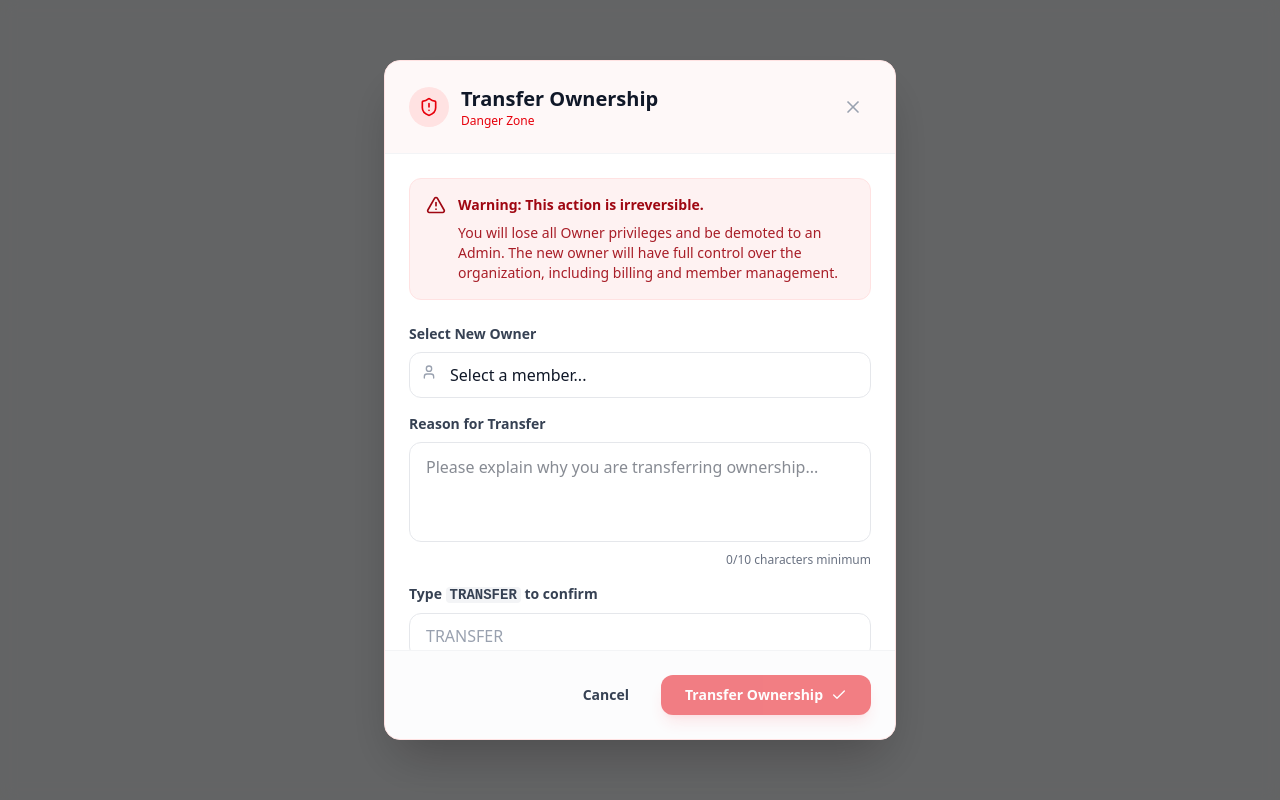
Test: TransferOwnershipModal › validates form inputs
Expected: the button "Transfer Ownership" is disabled, [661,675,871,715]
Note: Select member
Select "Alice (alice@example.com) - admin" in the dropdown at (640, 375), box [409,352,871,398]
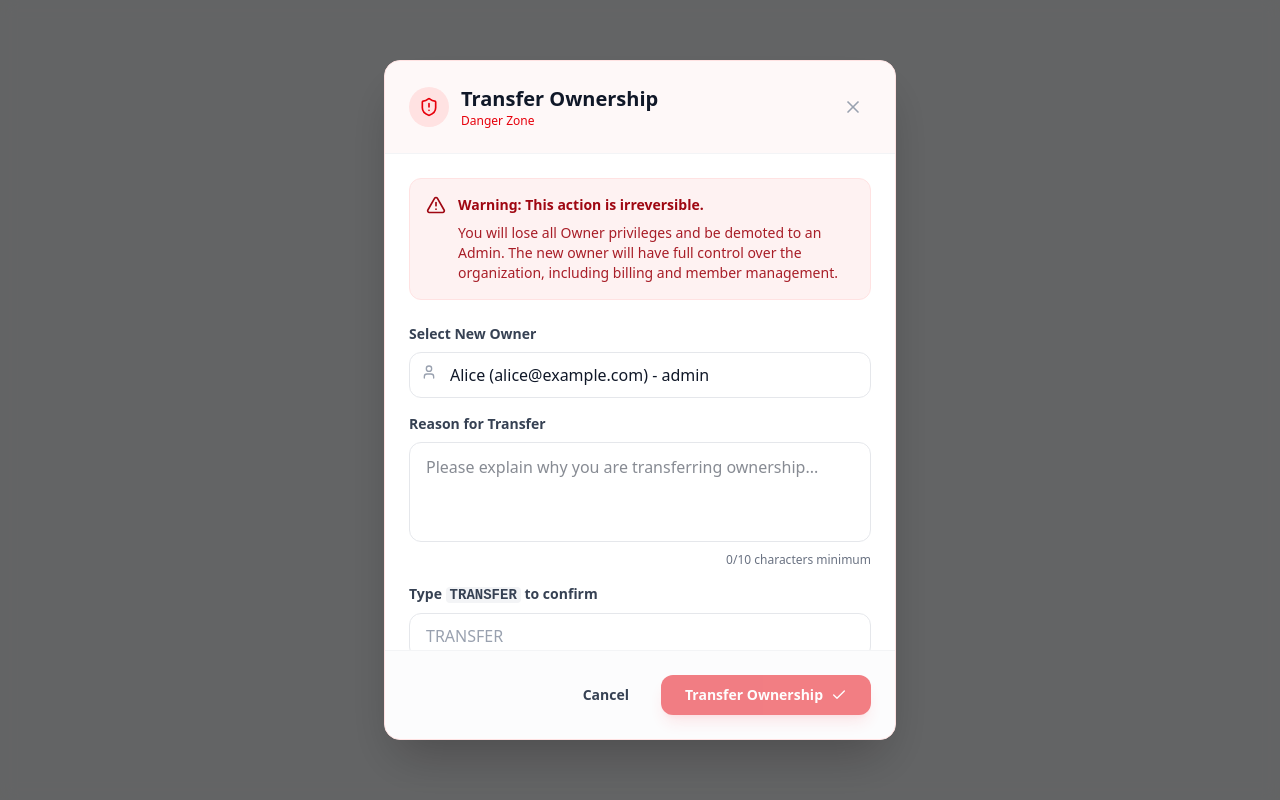
Note: Type short reason
Type "Short" into the text box with placeholder "Please explain why you are transferring ownership..." at (640, 492), box [409,442,871,542]
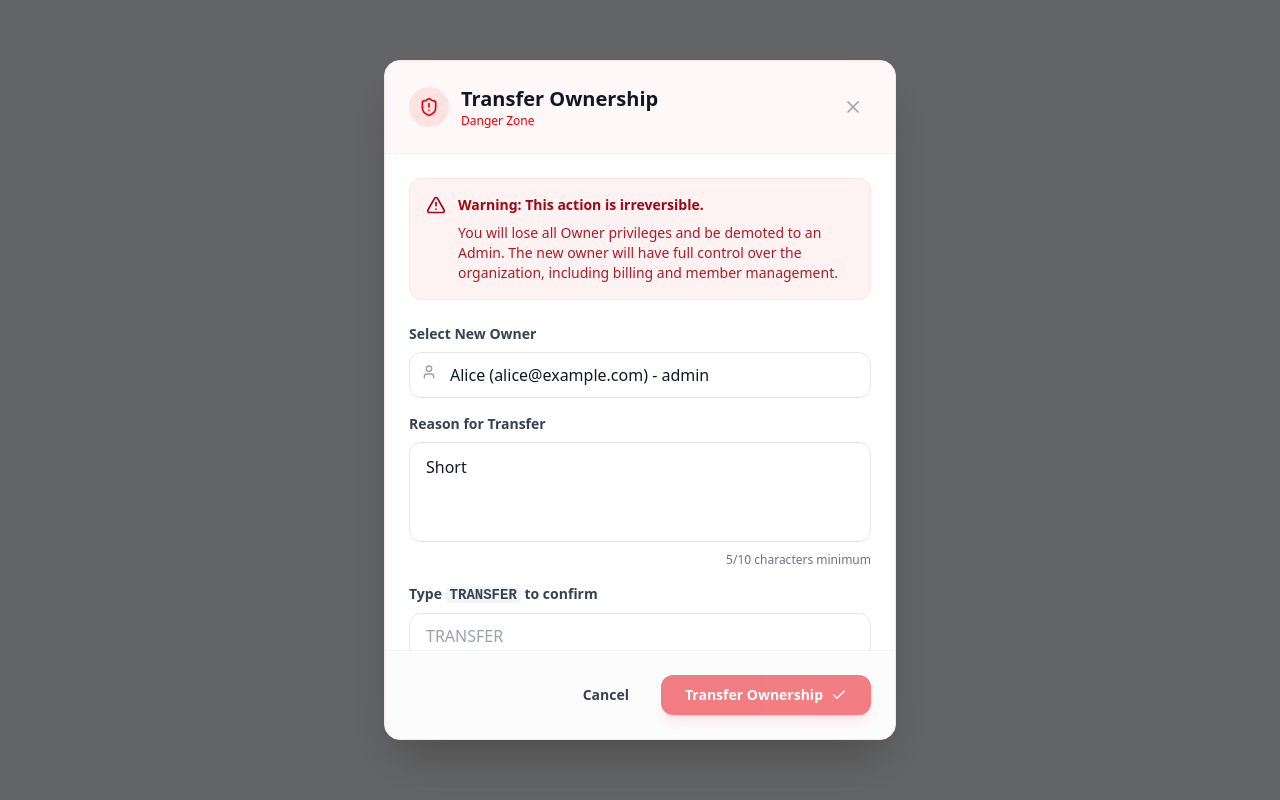
Expected: the button "Transfer Ownership" is disabled, [661,675,871,715]
Note: Type valid reason
Replace the text in the text box with placeholder "Please explain why you are transferring ownership..." with "Valid reason for transfer" at (640, 492), box [409,442,871,542]
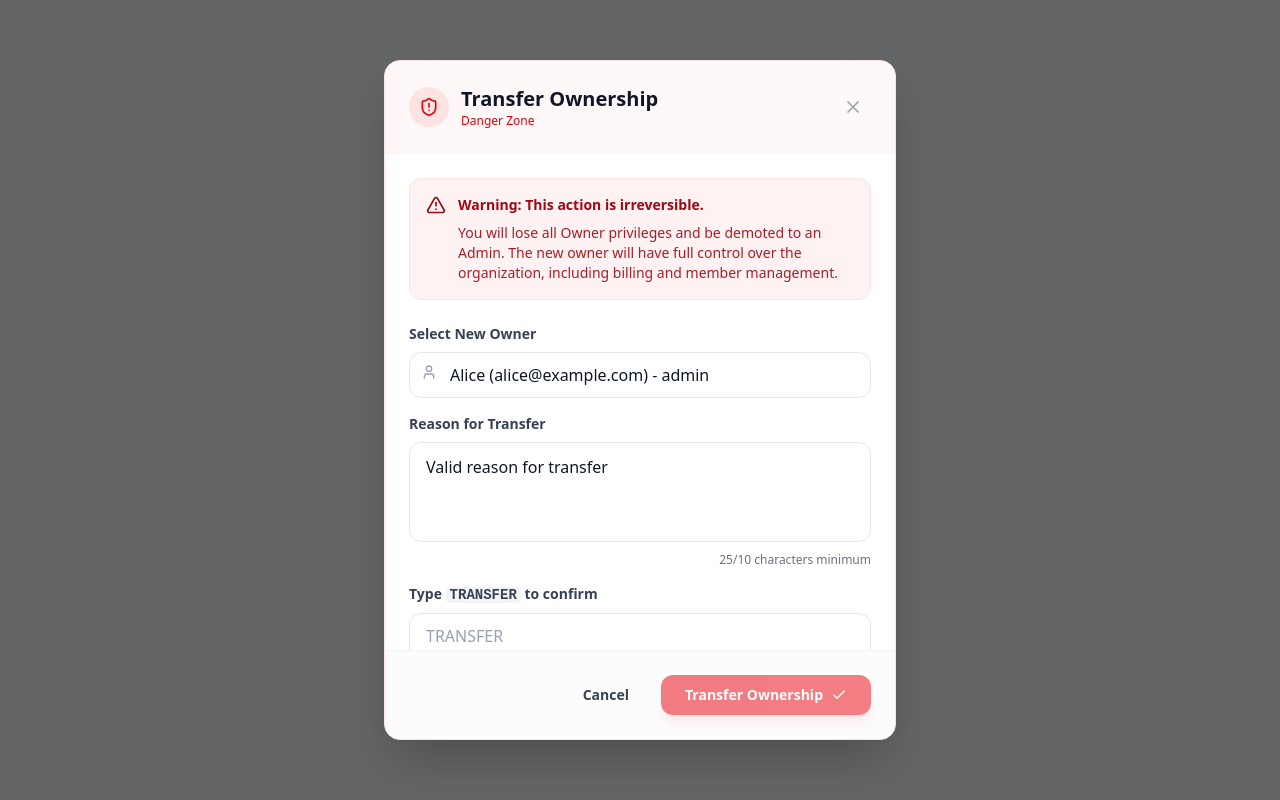
Note: Type wrong confirm text
Type "WRONG" into the field with placeholder "TRANSFER" at (640, 636), box [409,613,871,659]
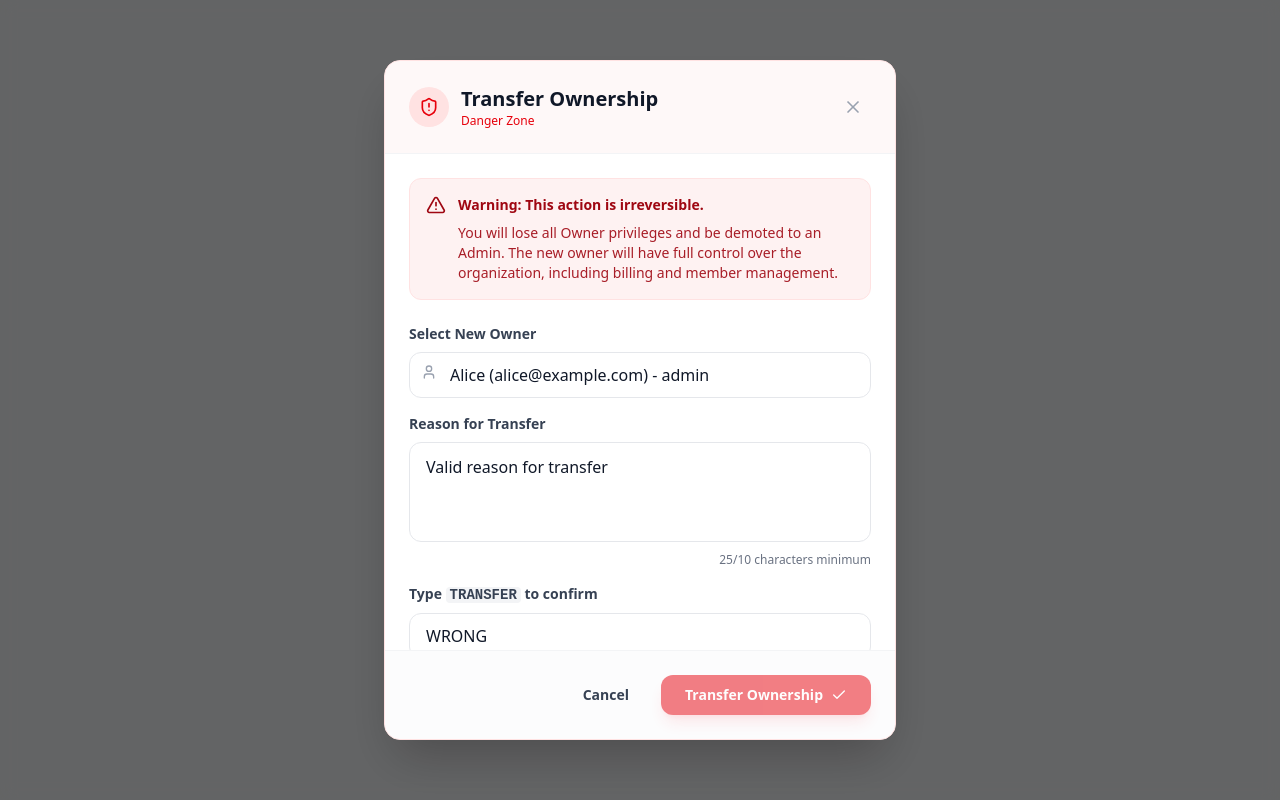
Expected: the button "Transfer Ownership" is disabled, [661,675,871,715]
Note: Type correct confirm text
Replace the text in the field with placeholder "TRANSFER" with "TRANSFER" at (640, 636), box [409,613,871,659]
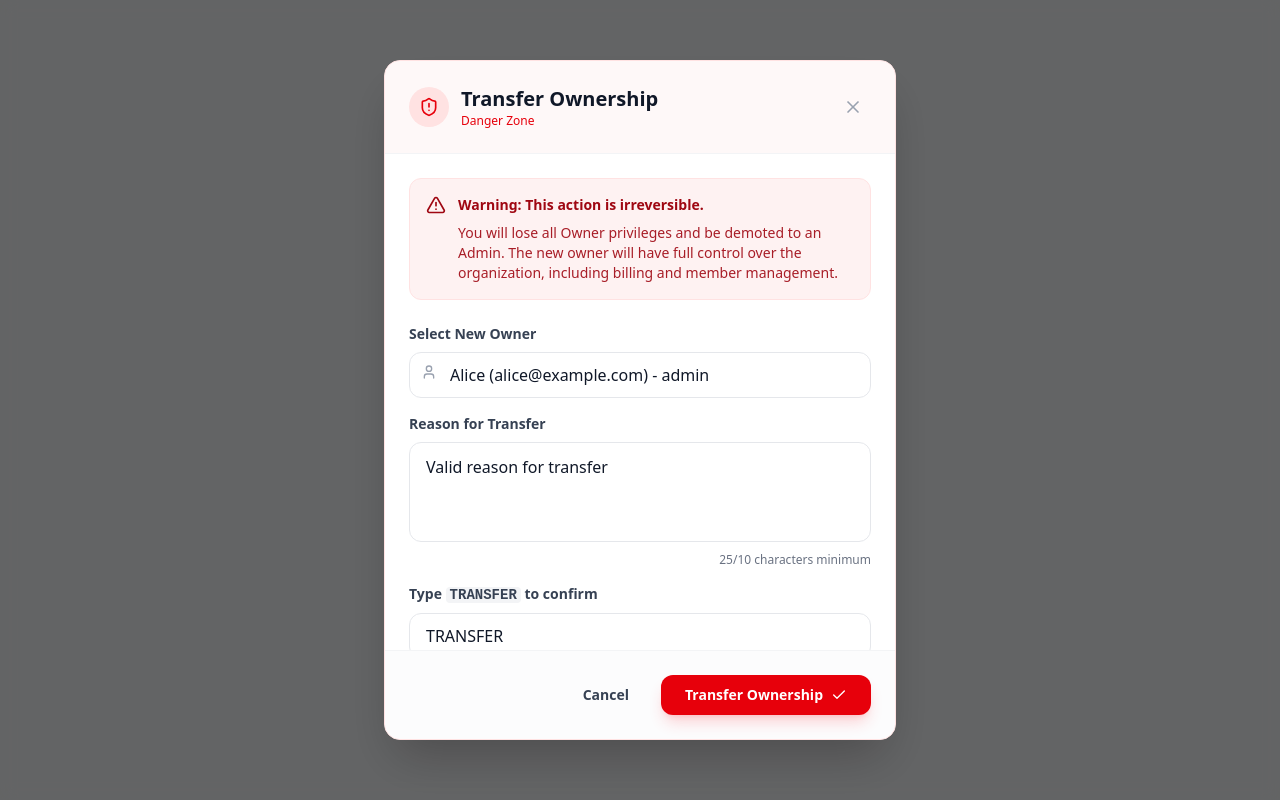
Expected: the button "Transfer Ownership" is enabled, [661,675,871,715]
